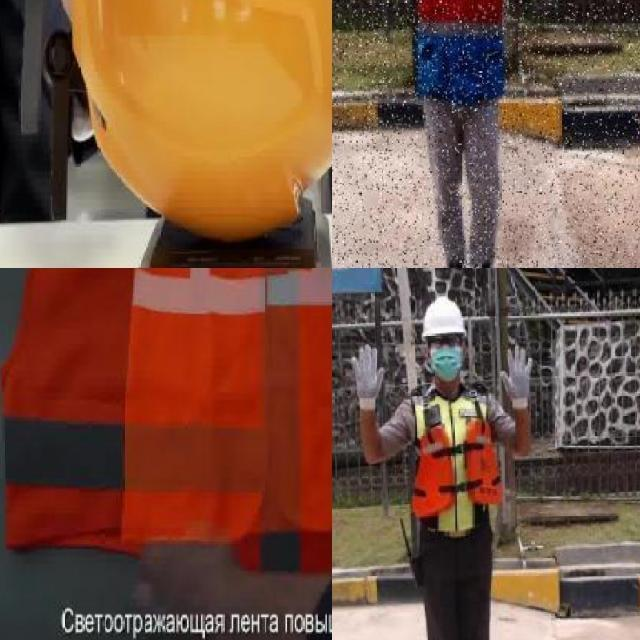apron: (349, 343, 386, 412), (500, 342, 530, 410)
